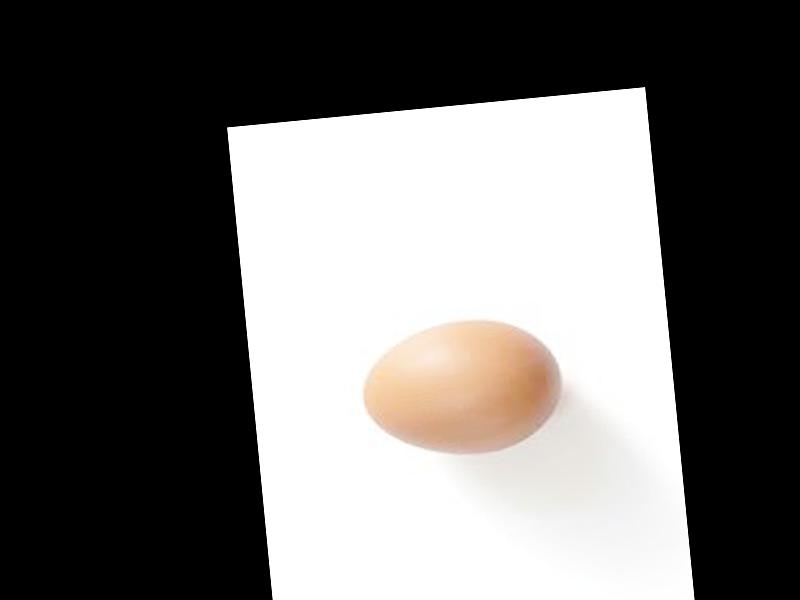Eggs: (355, 314, 566, 463)
